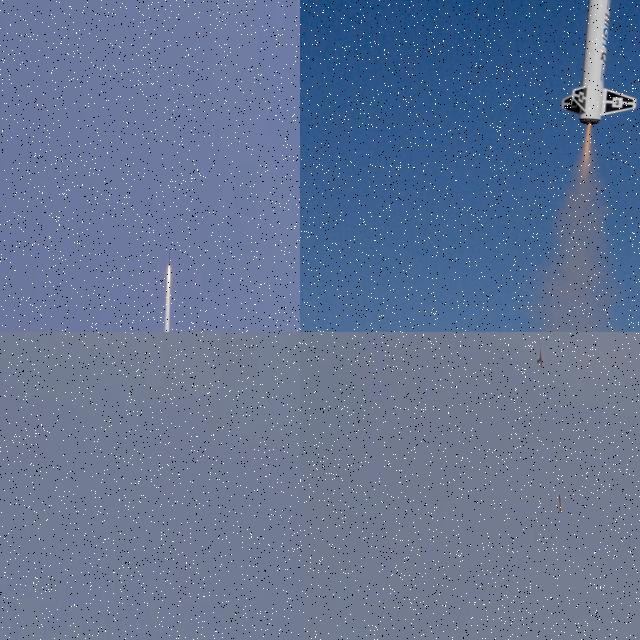Rocket: (559, 0, 638, 126), (168, 245, 172, 268), (559, 493, 562, 512)
